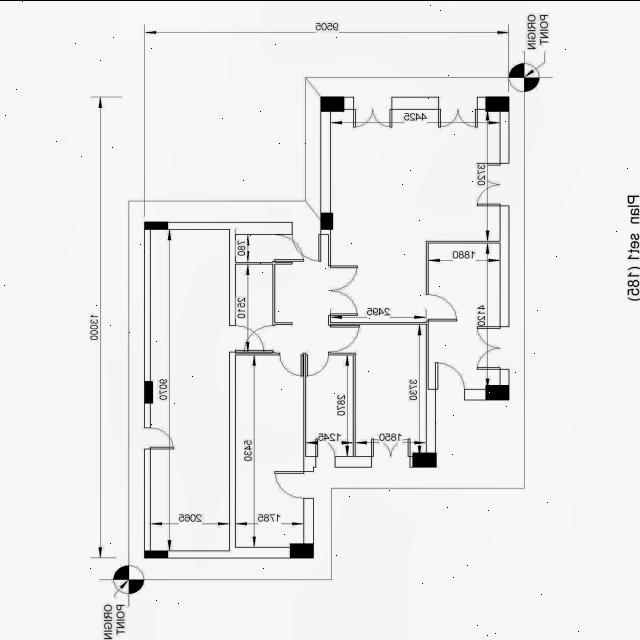Column: (290, 542, 314, 558), (486, 95, 510, 111), (320, 95, 344, 111), (486, 384, 510, 399), (412, 452, 437, 466), (144, 380, 153, 402), (144, 550, 168, 558), (321, 212, 333, 228), (144, 220, 168, 228)
Door: (435, 361, 465, 399), (274, 470, 314, 498), (292, 221, 320, 261), (230, 324, 264, 352), (243, 324, 276, 352), (272, 233, 304, 261), (328, 324, 360, 352), (426, 294, 458, 320), (144, 426, 174, 448), (316, 438, 336, 467), (306, 352, 329, 376), (280, 352, 302, 376)
Double-Door: (328, 265, 358, 315), (477, 162, 509, 206), (477, 325, 509, 369), (438, 96, 478, 126), (353, 96, 392, 126), (370, 438, 410, 467)
